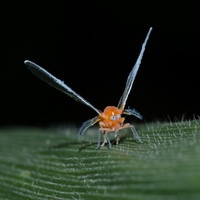insect: (24, 27, 151, 145)
